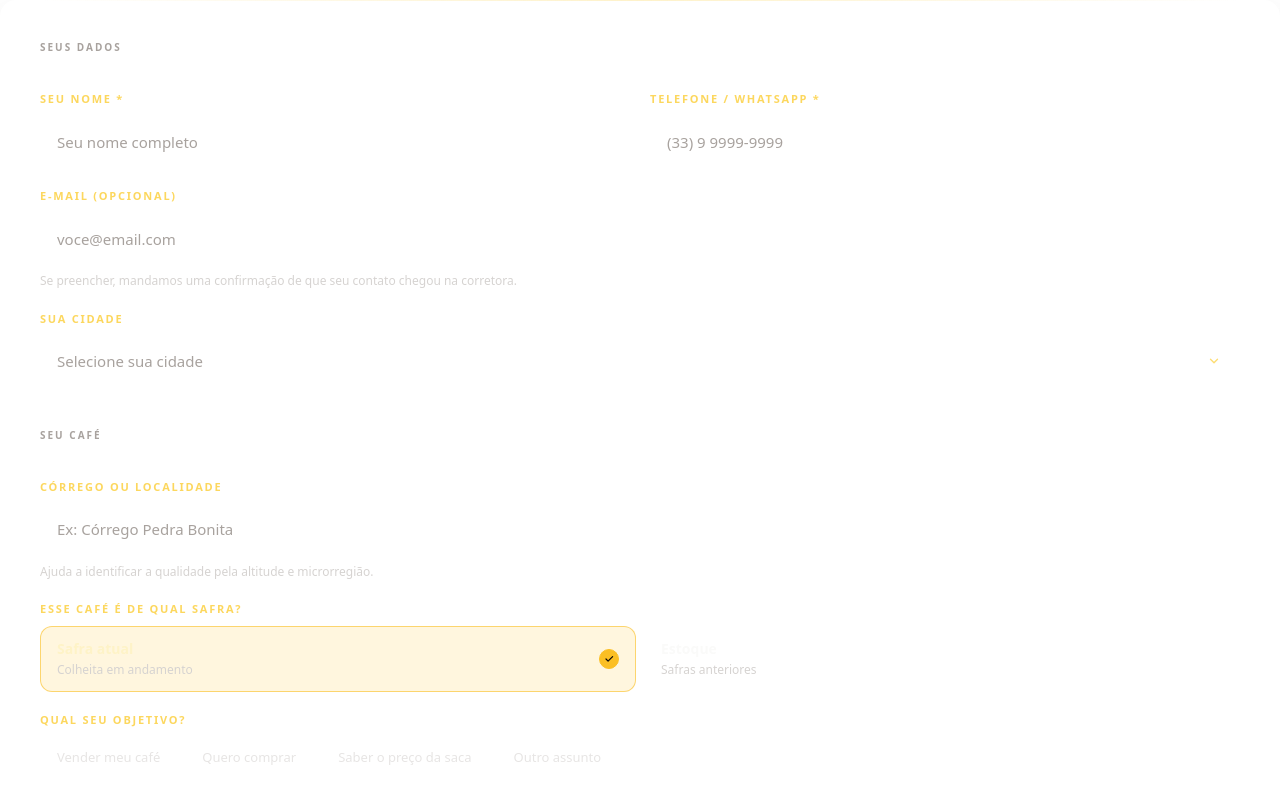
Test case: LeadContactForm — fluxo crítico de lead › exibe estado de sucesso após POST resolver
Type "Maria Silva" into the field labelled "Seu nome *" at (335,142), box [40, 116, 630, 168]
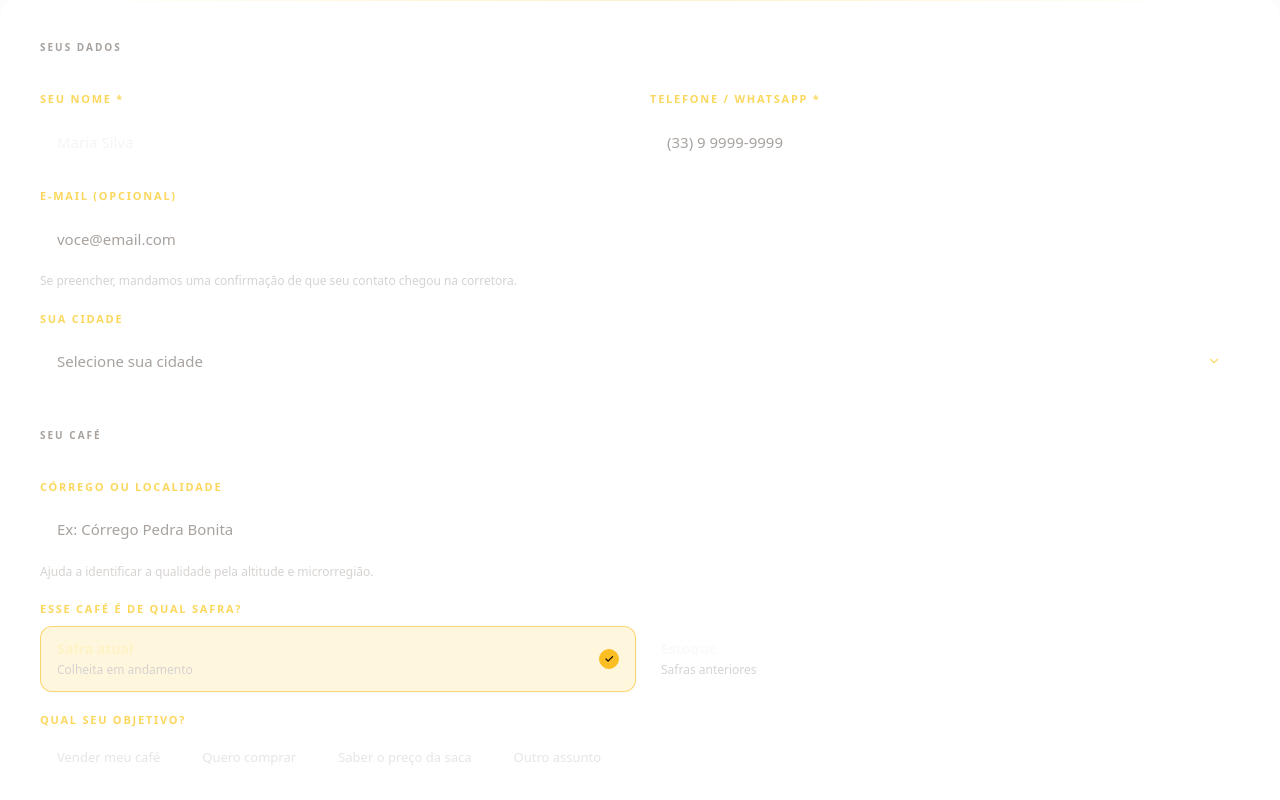
Type "33999990000" into the field labelled "Telefone / WhatsApp *" at (945,142), box [650, 116, 1240, 168]
(page scrolled)
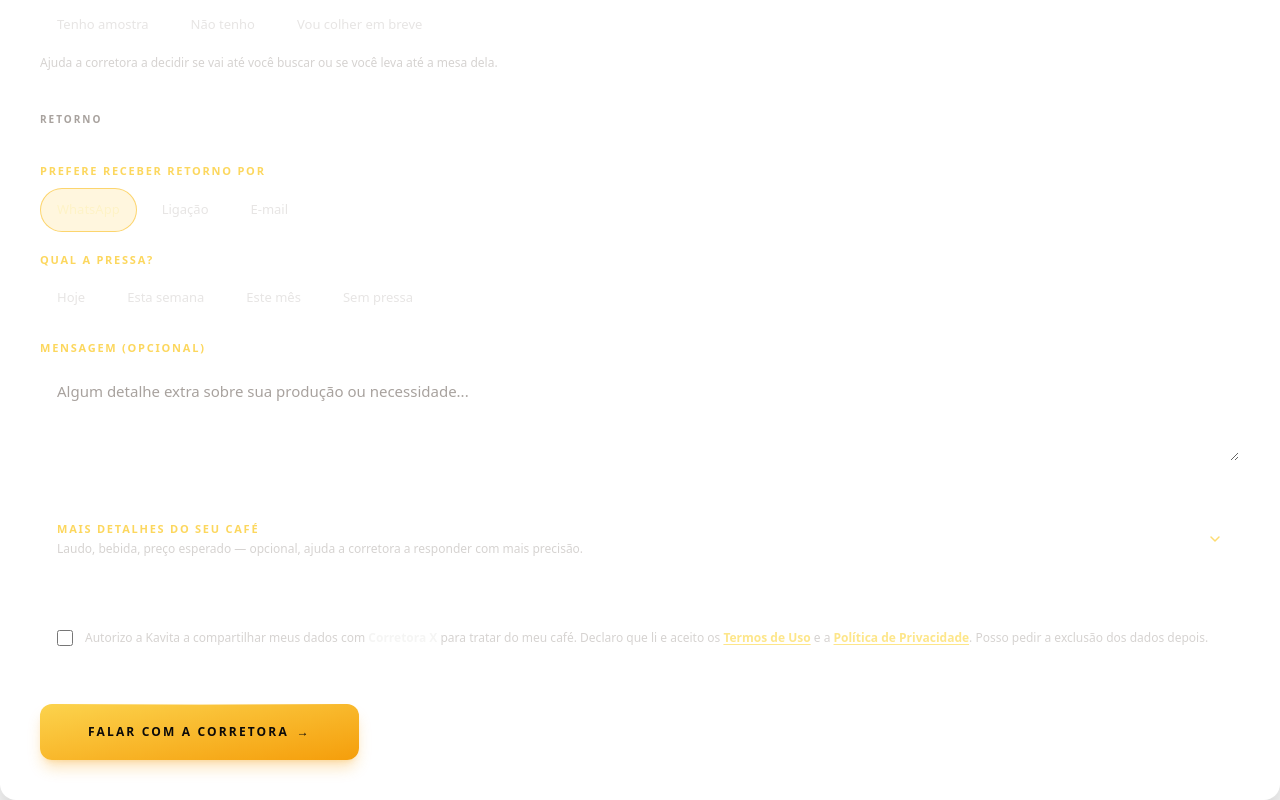
Click the checkbox labelled "Autorizo a Kavita" at (65,638), box [57, 630, 73, 646]
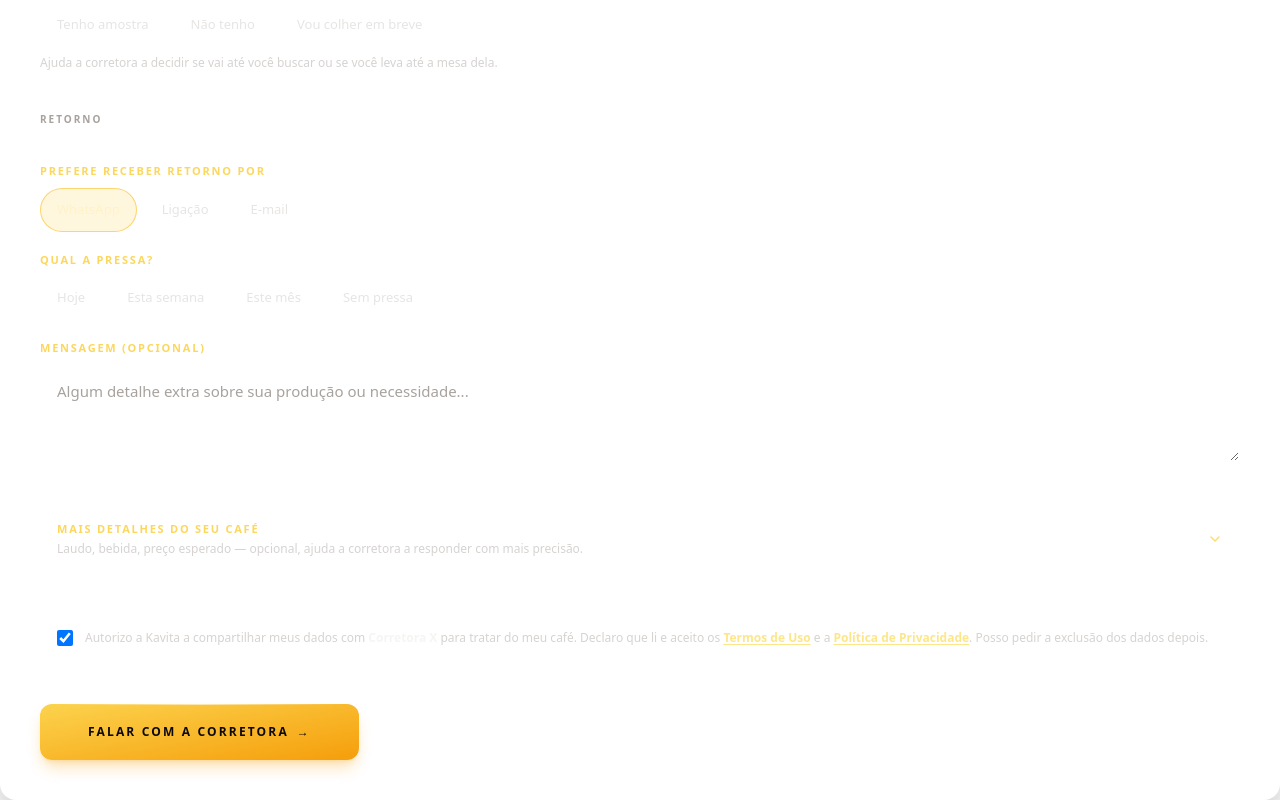
Click the button "Falar com a corretora →" at (200,732), box [40, 704, 359, 760]
(page scrolled)
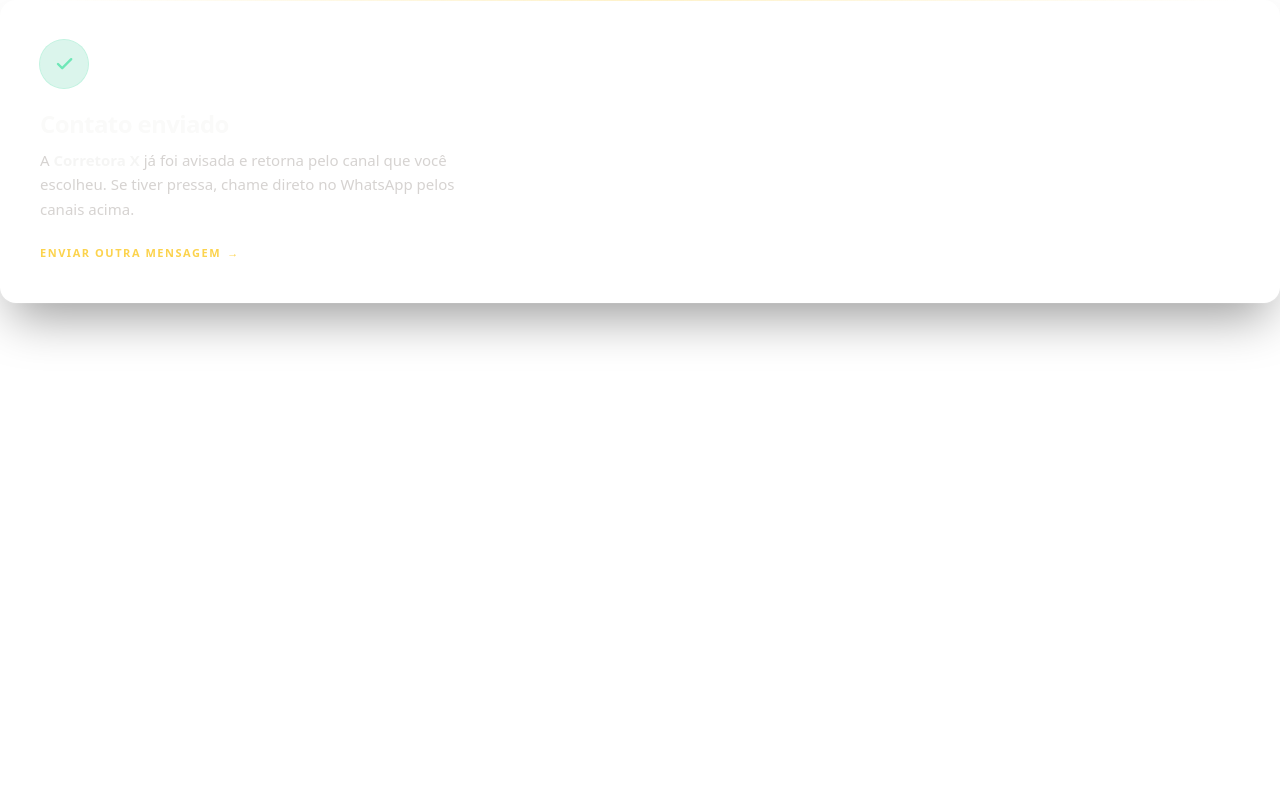
Now the button "Enviar outra mensagem →" is shown, box [40, 245, 240, 262]
